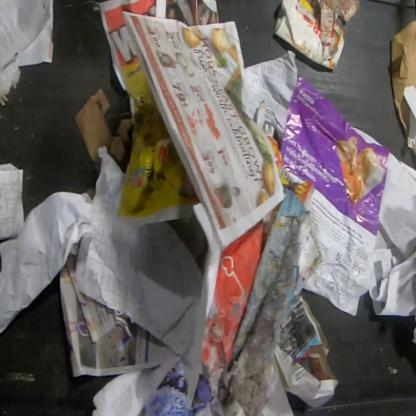cardboard: (275, 0, 348, 70), (76, 85, 132, 175), (390, 18, 416, 142)
